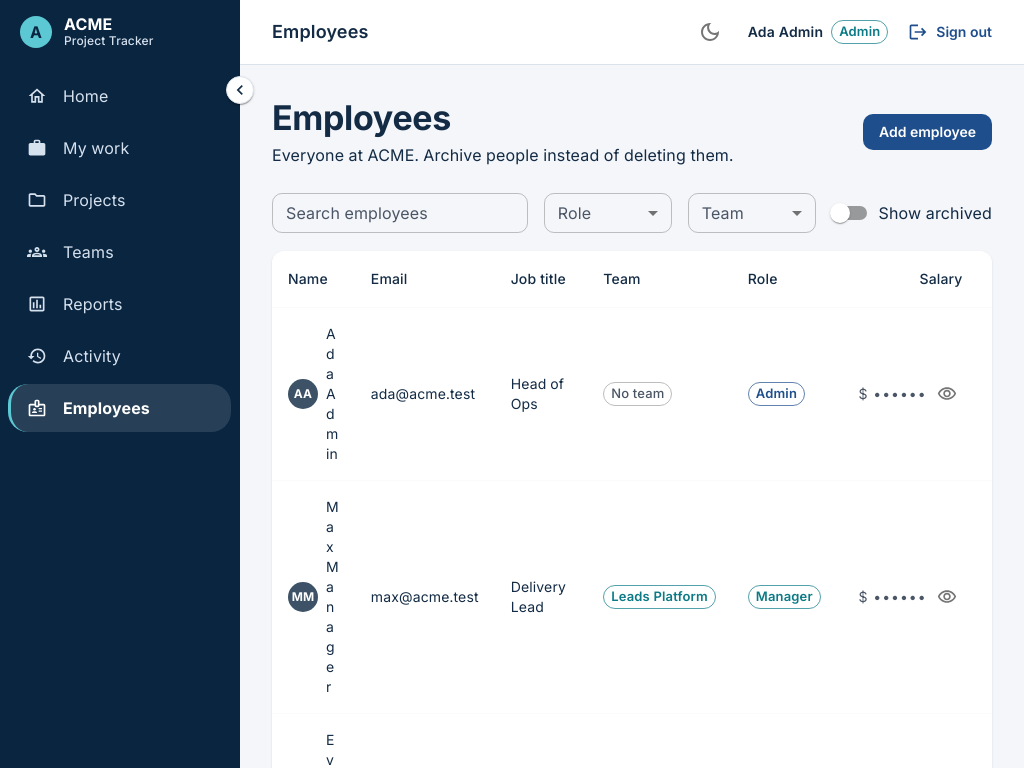
Test: Add employee dialog › a typed full address hides the domain and is sent as typed; a failed copy says what to do
Click the button "Add employee".
click(927, 132)  # box [863,114,992,150]
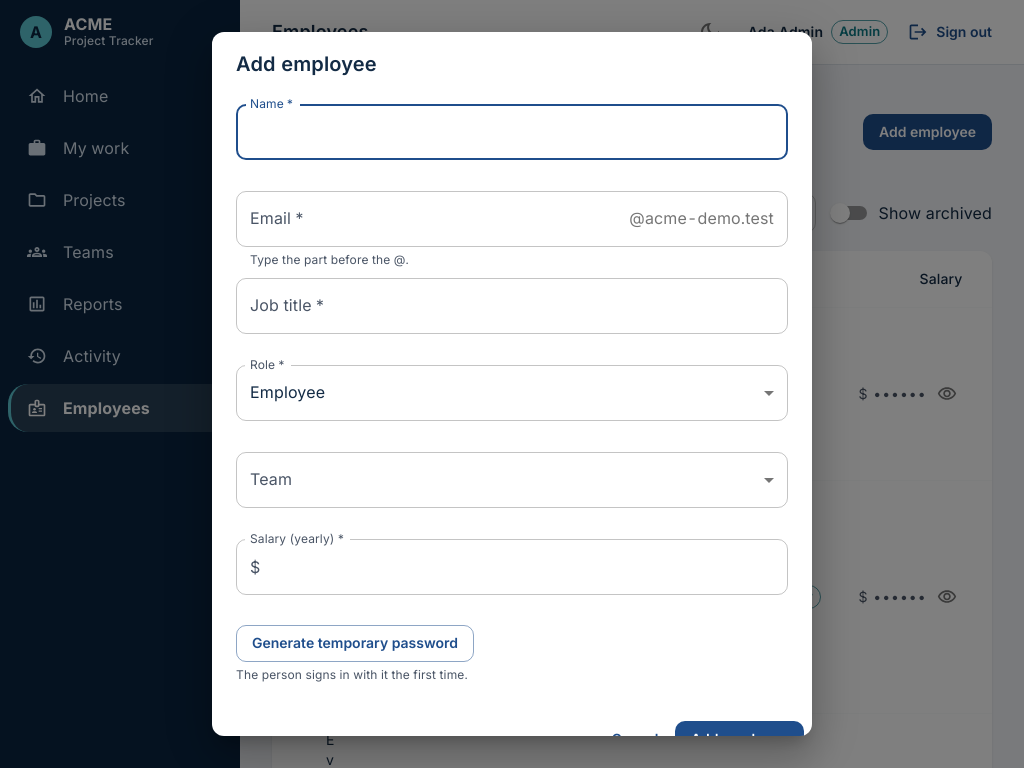
Type "nia@partner.test" into the field labelled "Email".
click(429, 219); type("nia@partner.test")  # box [236,191,621,247]
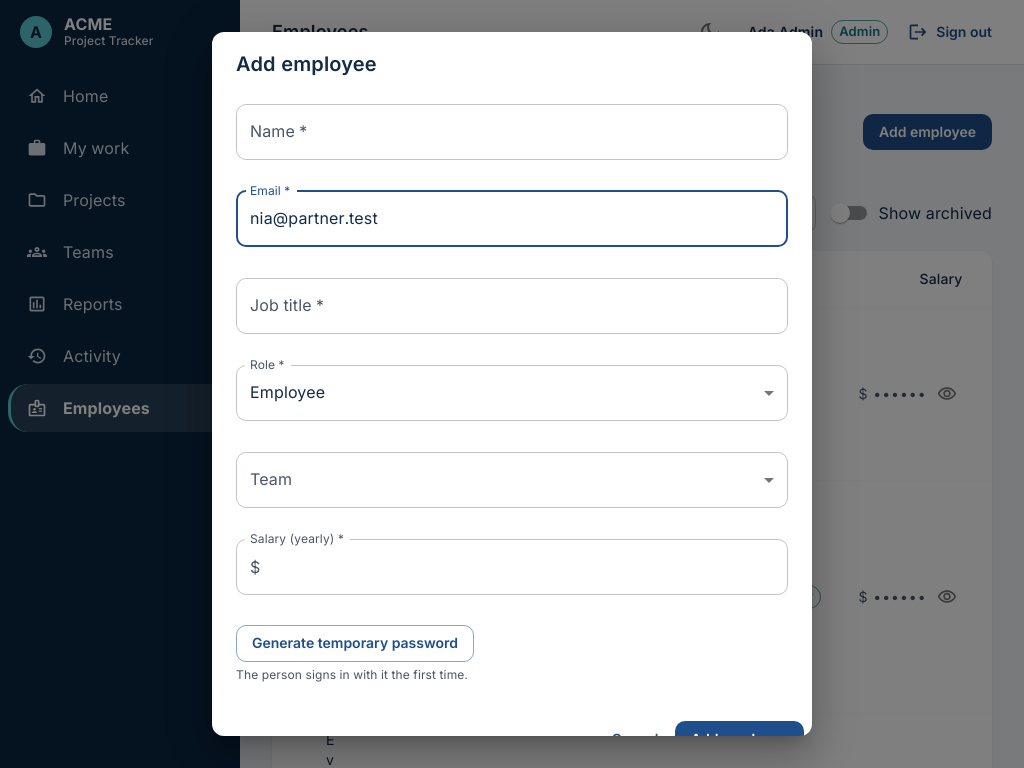
Result: the text "@acme-demo.test" is gone
Click the button "Generate temporary password".
click(355, 644)  # box [236,625,474,662]
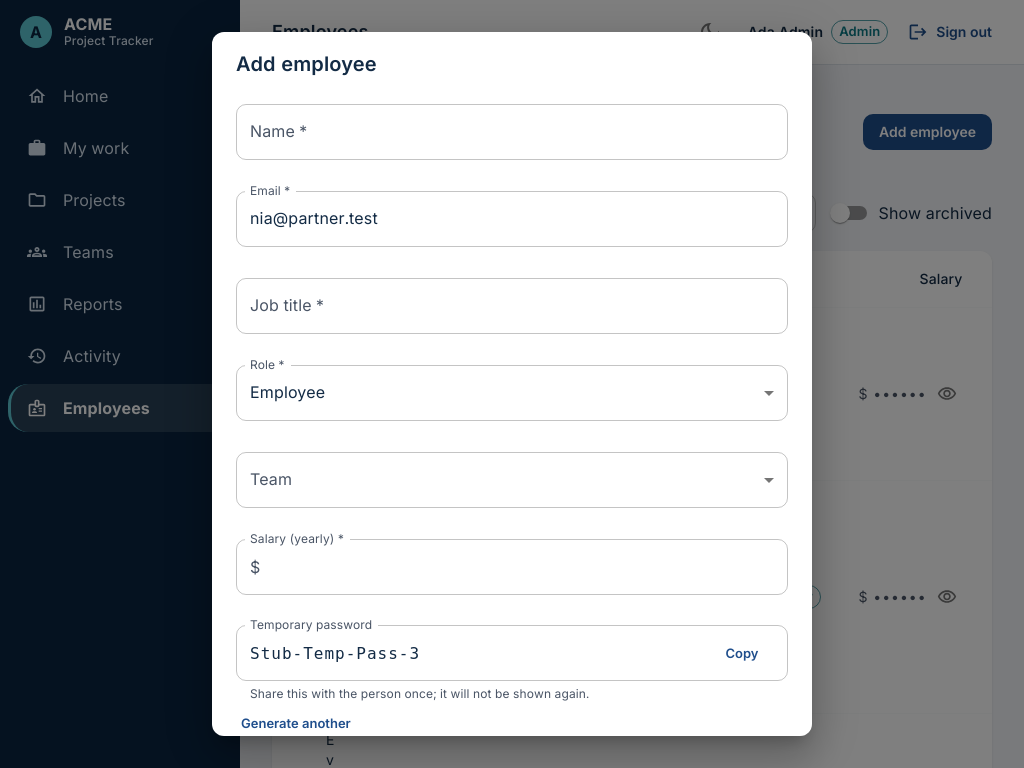
Click the button "Copy".
click(742, 654)  # box [710,638,774,669]
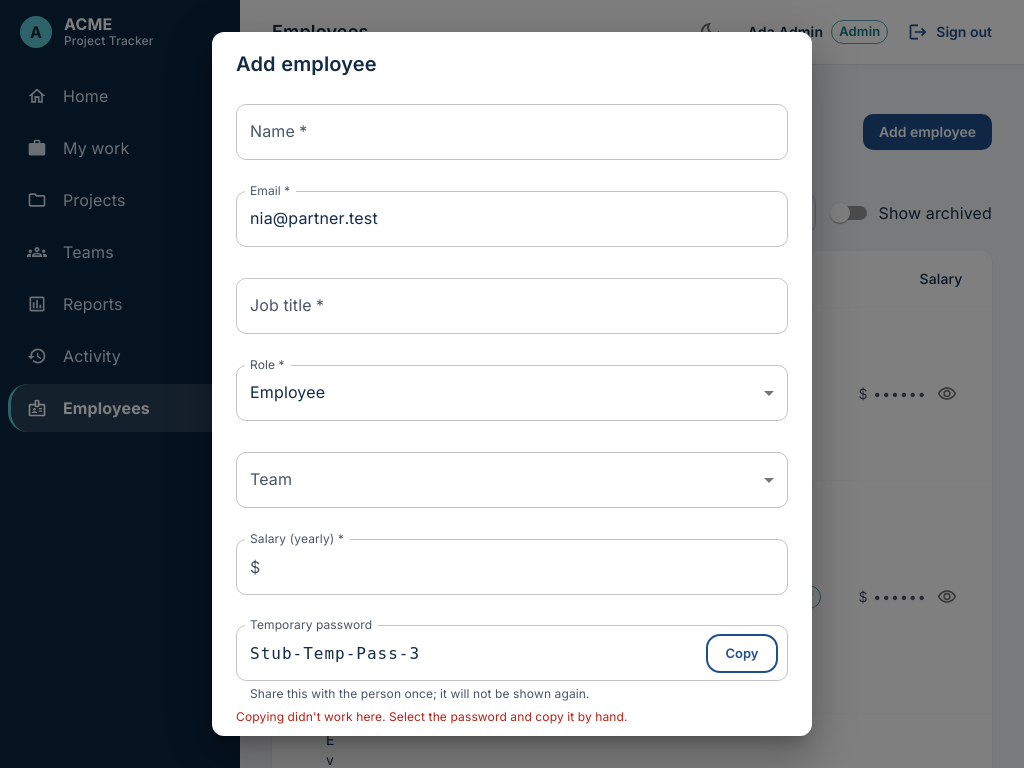
Result: the text "Select the password and copy it by hand" is shown at [236,709,628,724]
